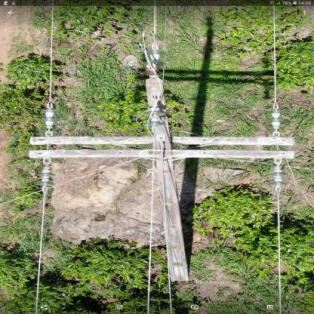Poste: (141, 63, 199, 280)
